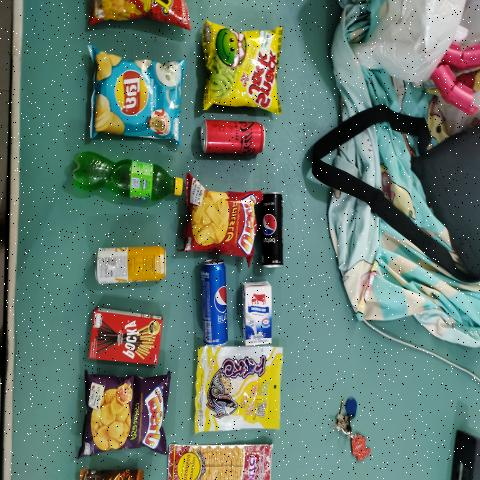bento_red: (177, 447, 267, 480)
coke_red: (203, 124, 264, 150)
fanta_green: (72, 150, 186, 205)
lay_blue: (100, 60, 176, 135)
party_purple: (90, 383, 161, 445)
party_red: (196, 190, 254, 252)
pepsi_black: (263, 195, 283, 268)
pepsi_blue: (207, 264, 230, 344)
singha_yellow: (98, 246, 167, 286)
snack_jack: (211, 36, 279, 106)
taro_yellow: (197, 353, 278, 429)
thai_denmark: (244, 284, 271, 346)
